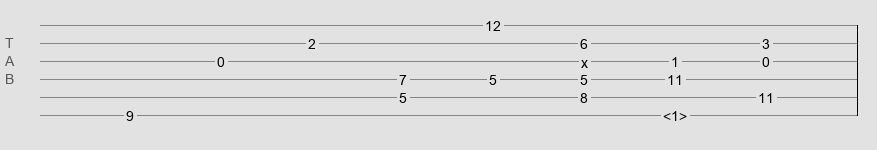0: (217, 54, 225, 64), (762, 54, 770, 64)
1: (671, 54, 679, 64)
11: (667, 72, 683, 82), (758, 90, 774, 100)
12: (485, 18, 501, 28)
2: (308, 36, 316, 46)
3: (762, 36, 770, 46)
5: (399, 90, 407, 100), (489, 72, 497, 82), (580, 72, 588, 82)
6: (580, 36, 588, 46)
7: (399, 72, 407, 82)
8: (580, 90, 588, 100)
9: (126, 108, 134, 118)
harmonic: (663, 108, 687, 118)
x: (581, 55, 588, 63)
